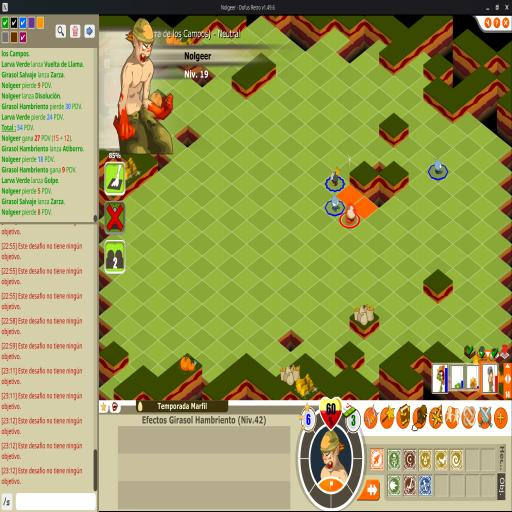Enemigos: (330, 166, 342, 186), (330, 193, 340, 211), (434, 157, 444, 175)
Personaje: (346, 204, 356, 223)
